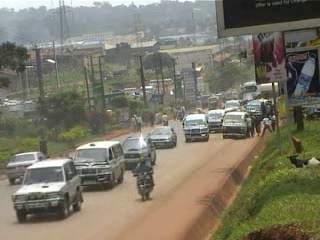Car: (10, 156, 85, 224), (5, 146, 53, 184), (120, 135, 160, 172), (148, 123, 177, 150)
Motorcycle: (128, 152, 157, 201), (173, 106, 187, 123), (159, 111, 172, 128)
